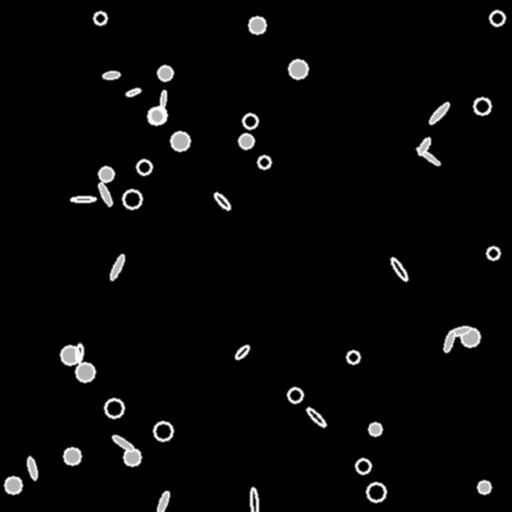pseudomonas: (428, 101, 450, 125), (415, 146, 441, 166), (389, 256, 409, 282), (305, 406, 327, 428), (108, 254, 126, 280), (111, 434, 135, 452), (97, 181, 113, 207), (155, 490, 171, 512), (213, 192, 231, 210), (416, 136, 432, 156), (26, 456, 38, 480), (449, 325, 471, 337), (443, 330, 455, 352), (234, 344, 250, 360), (249, 487, 259, 512), (125, 87, 141, 97), (75, 343, 83, 363), (102, 71, 120, 79), (71, 196, 95, 202), (160, 91, 166, 107)
synechocystis: (367, 483, 385, 501), (123, 190, 141, 208), (289, 60, 307, 78), (154, 422, 172, 440), (171, 132, 189, 150), (461, 328, 479, 346), (61, 346, 79, 364), (76, 363, 94, 381), (105, 399, 123, 417), (249, 17, 265, 33), (474, 98, 490, 114), (150, 107, 166, 123), (124, 449, 140, 465), (64, 448, 80, 464), (148, 108, 164, 124), (5, 477, 21, 493), (288, 388, 302, 402), (158, 66, 172, 80), (239, 134, 253, 148), (490, 11, 504, 25), (243, 114, 257, 128), (99, 167, 113, 181), (356, 459, 370, 473), (137, 160, 151, 174), (258, 156, 270, 168), (478, 481, 490, 493), (347, 351, 359, 363), (94, 12, 106, 24), (487, 247, 499, 259), (369, 423, 381, 435)
